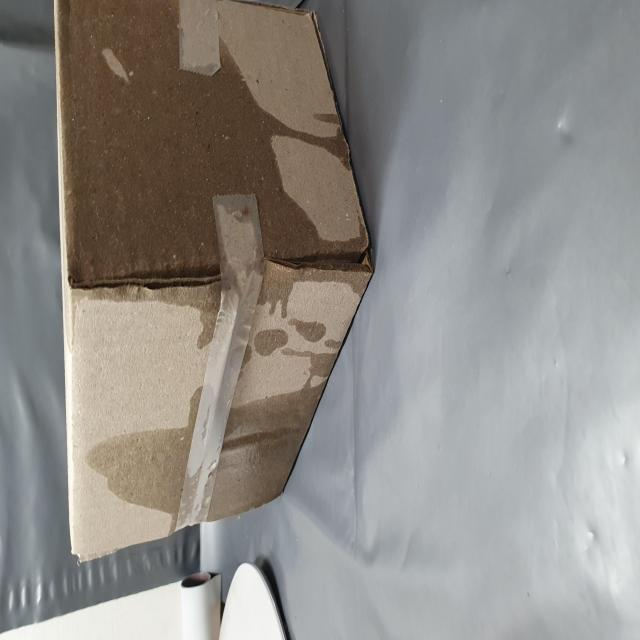wet: (150, 103, 360, 637), (55, 157, 144, 576)
